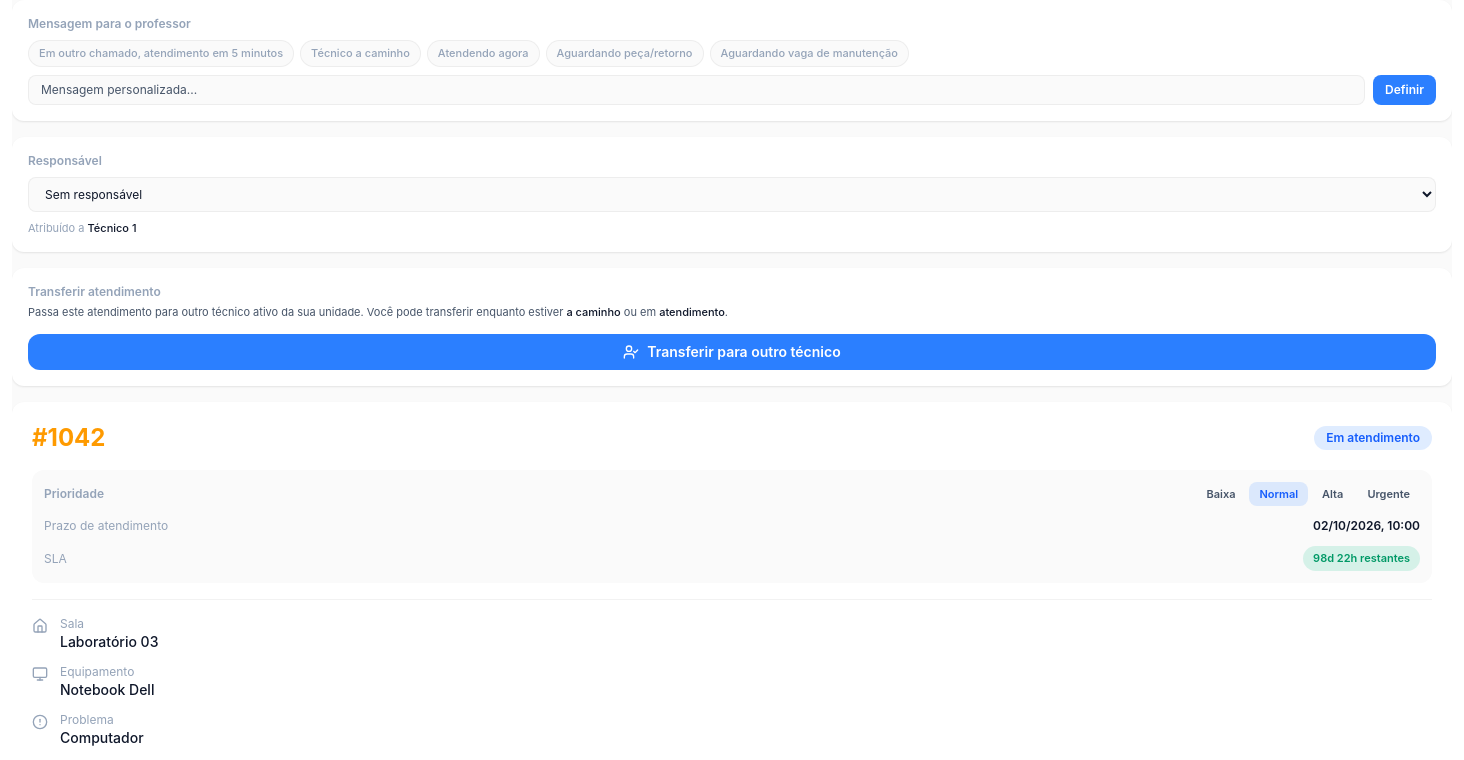
Scenario: TicketDetail — escrita com registro fora da fila (#342) › falha na escrita fora da fila é exibida, não engolida
In the field with placeholder "Mensagem personalizada...": (697, 90) [28, 74, 1365, 104], type "Tentativa"
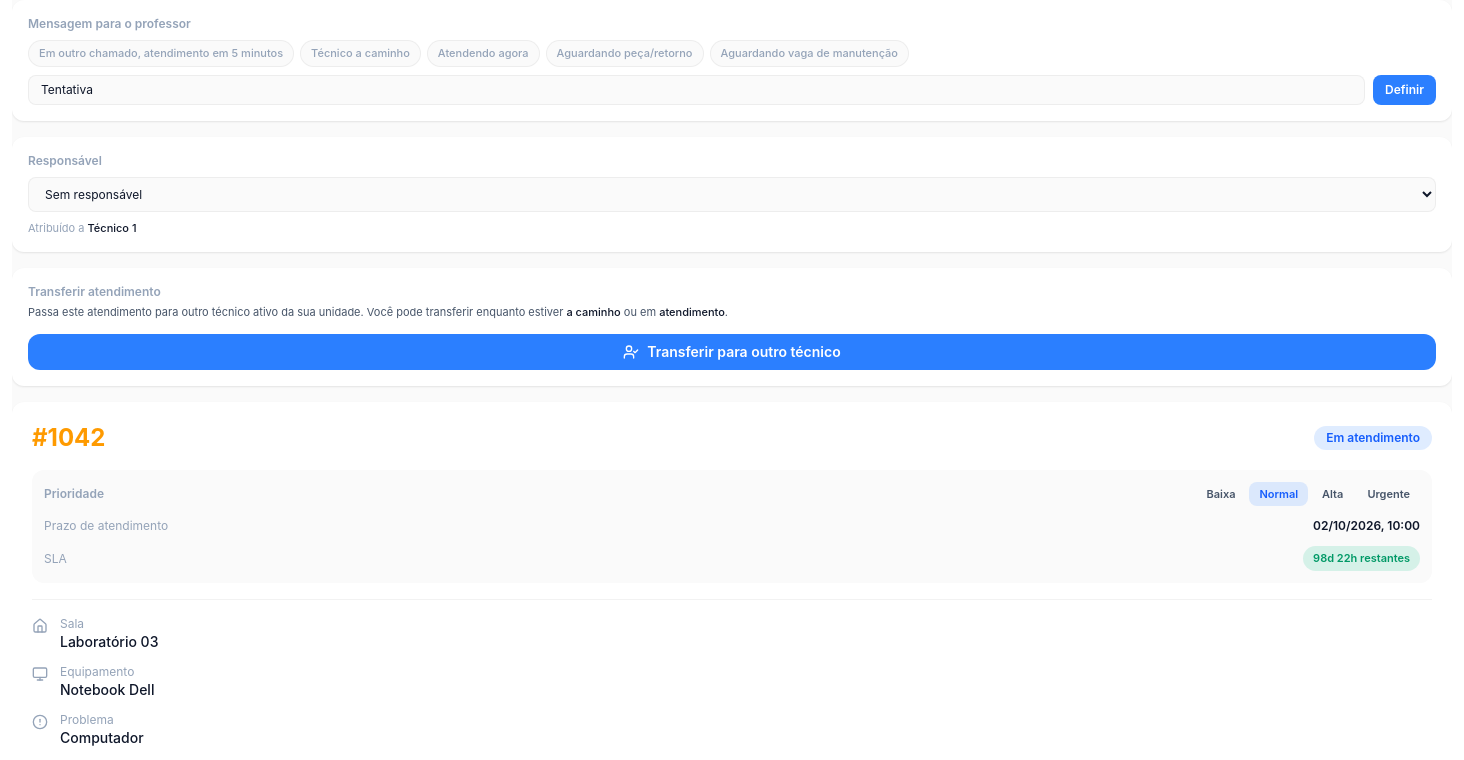
Click the button "Definir": (1405, 90) [1373, 74, 1436, 104]
(page scrolled)
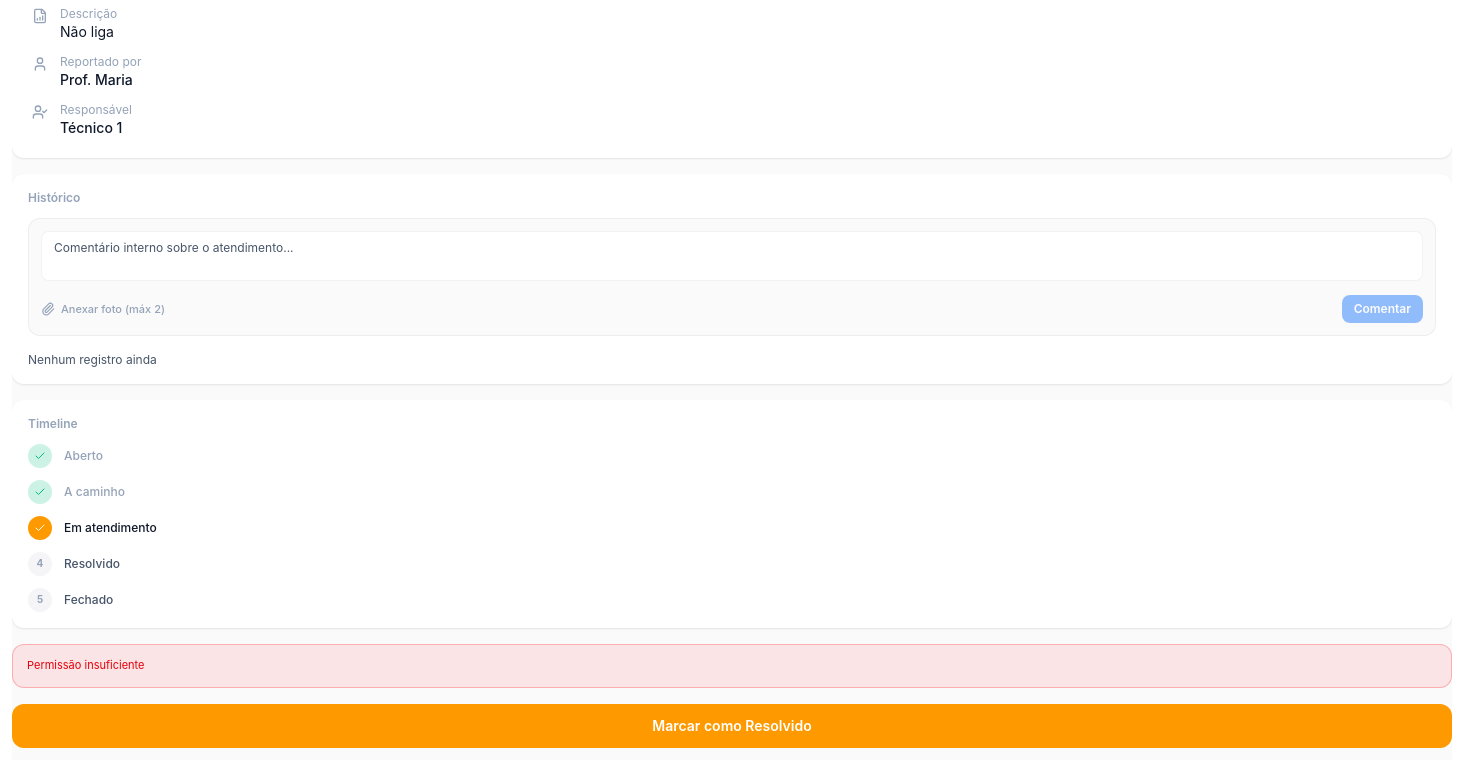
expect the text "Permissão insuficiente" is shown: met, box [27, 658, 144, 672]
